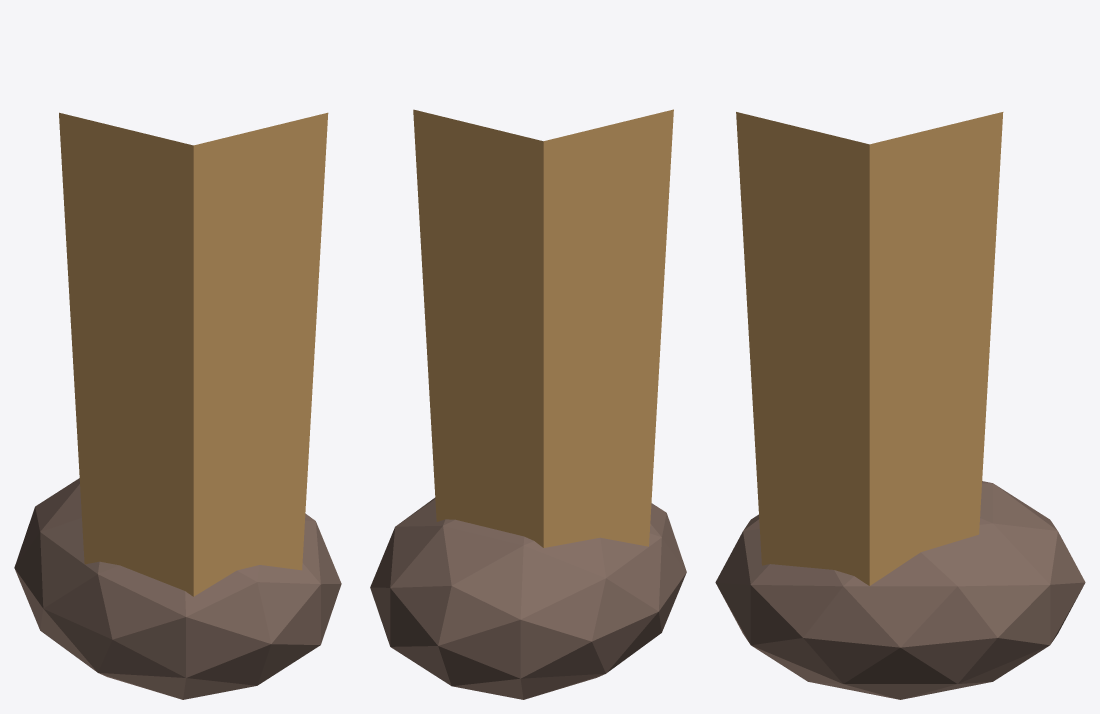
Rendered from companion_leg.glb.
3 renders of one model, left to right at view 1: azimuth 30°, elevation 25°; view 2: azimuth 150°, elevation 25°; view 3: azimuth 270°, elevation 25°, orthographic. The views are drawn at different scales.
Parts seen in each view (by area): view 1: companion_leg; view 2: companion_leg; view 3: companion_leg.
Part boxes in pixels (x1,y1,x2,y2): companion_leg: [14, 112, 341, 699]; companion_leg: [370, 109, 686, 699]; companion_leg: [715, 112, 1085, 699].
Bounding box in the file's own units: 0.1 × 0.215 × 0.12.
